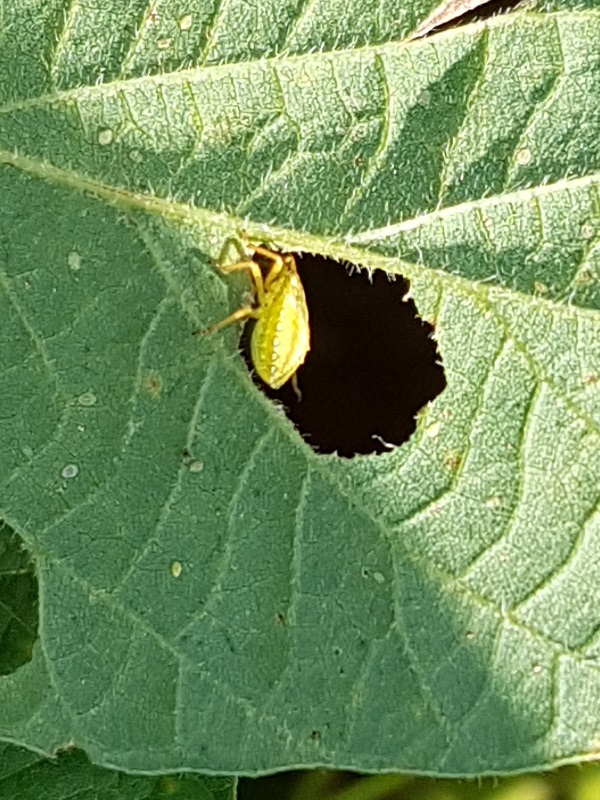Nezara_viridula_ninfa: (196, 224, 321, 403)
